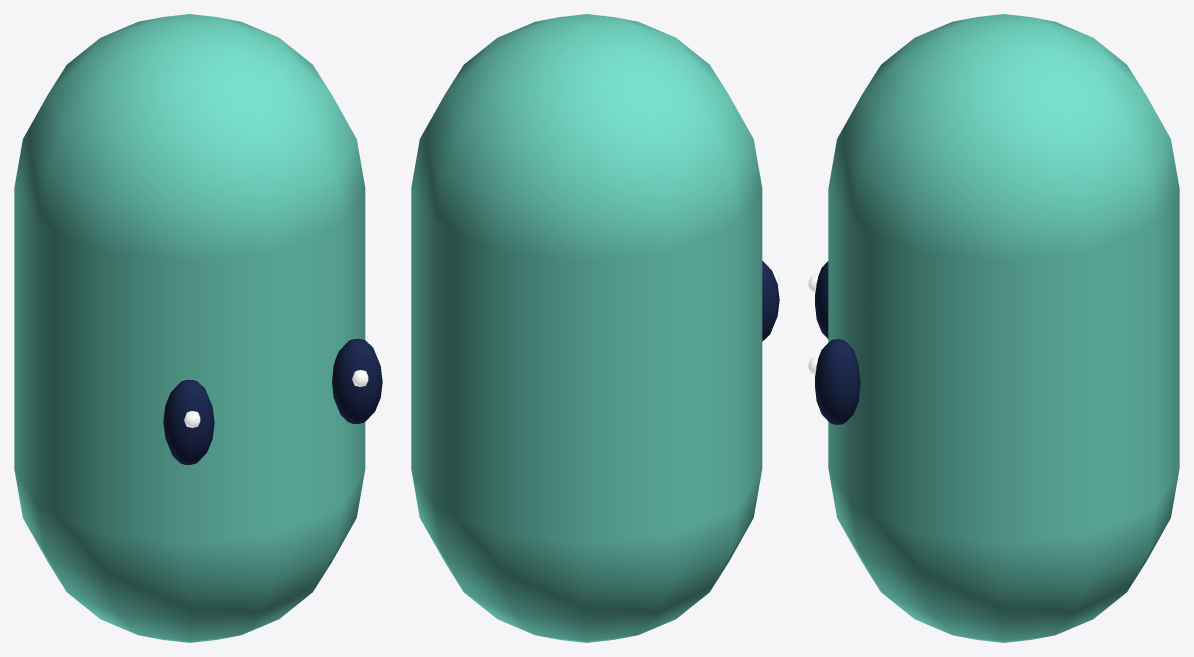
Rendered from note.glb.
3 views of the same model, side by side, from view 1: azimuth 30°, elevation 25°; view 2: azimuth 150°, elevation 25°; view 3: azimuth 270°, elevation 25° (orthographic).
Visible parts, largest first — view 1: Body, Eyes; view 2: Body, Eyes; view 3: Body, Eyes.
Boxes of the visible parts, bbox=[...] form: Body: bbox=[14, 14, 365, 642]; Eyes: bbox=[163, 339, 382, 464]; Body: bbox=[411, 14, 762, 642]; Eyes: bbox=[762, 261, 779, 341]; Body: bbox=[828, 14, 1179, 642]; Eyes: bbox=[808, 261, 860, 424].
Size of the model in its own units: 0.076 by 0.143 by 0.0803.
